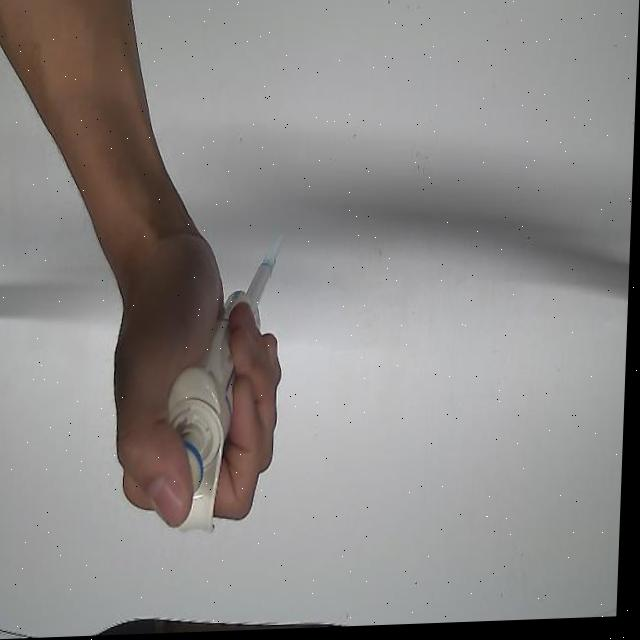Micropipette Tip 1000 uL: (260, 233, 289, 276)
Single Channel Pipettor: (164, 260, 280, 545)
